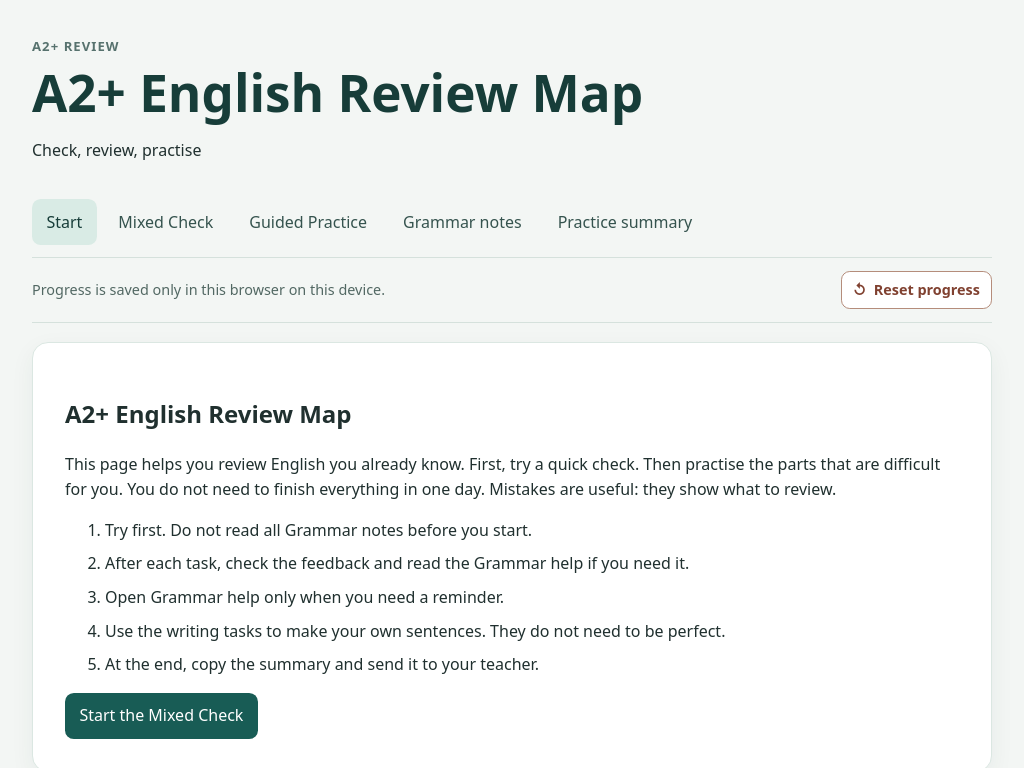
Test: shows diagnostic sections with progress and opens one section at a time
Click the button "Mixed Check" at (166, 222), box [104,199,228,245]
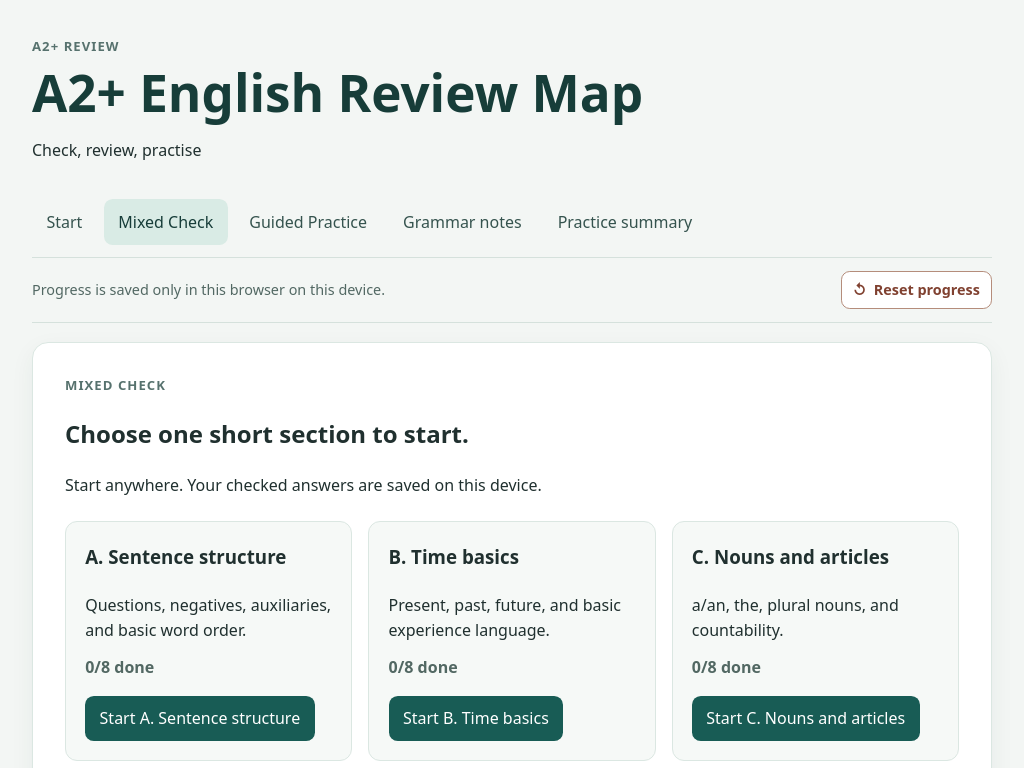
Check: the text "Sentence structure" is shown, box [85,544,286,568]
Check: the text "0/8 done" is shown, box [85,656,154,678]
Check: the button "Start A. Sentence structure" is shown
Click the button "Start A. Sentence structure" at (200, 718), box [85,696,315,741]
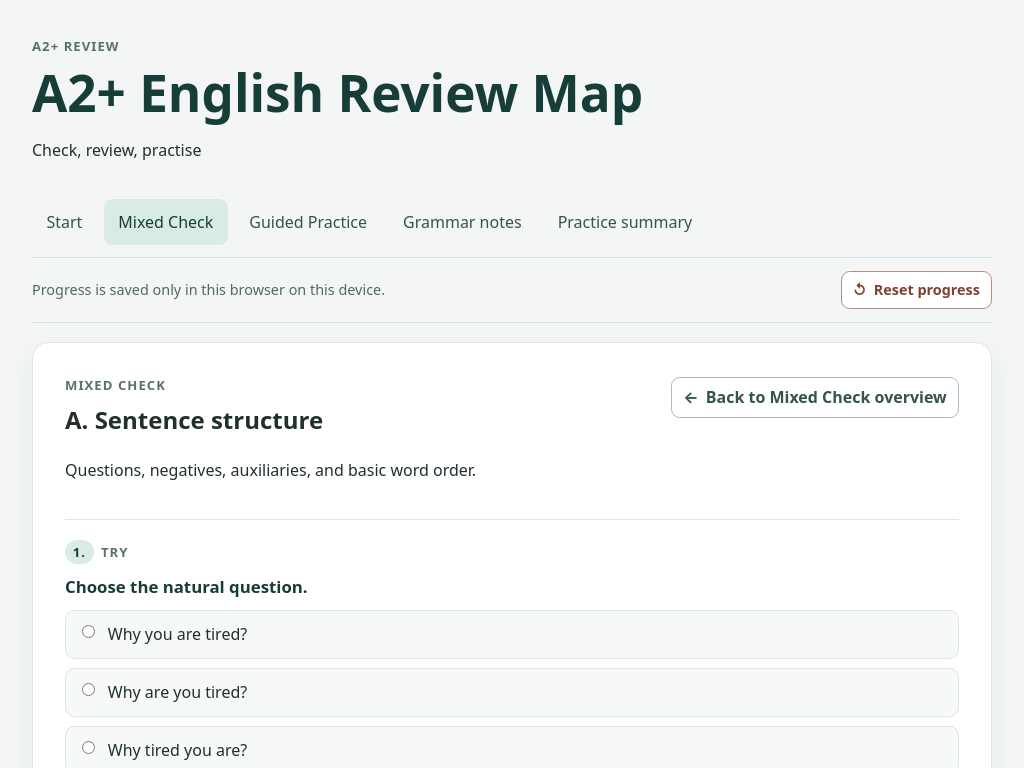
Check: the text "Choose the natural question." is shown, box [65,577,308,597]
